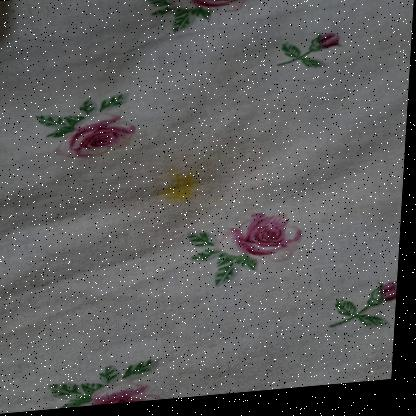spot: (153, 165, 203, 210)
